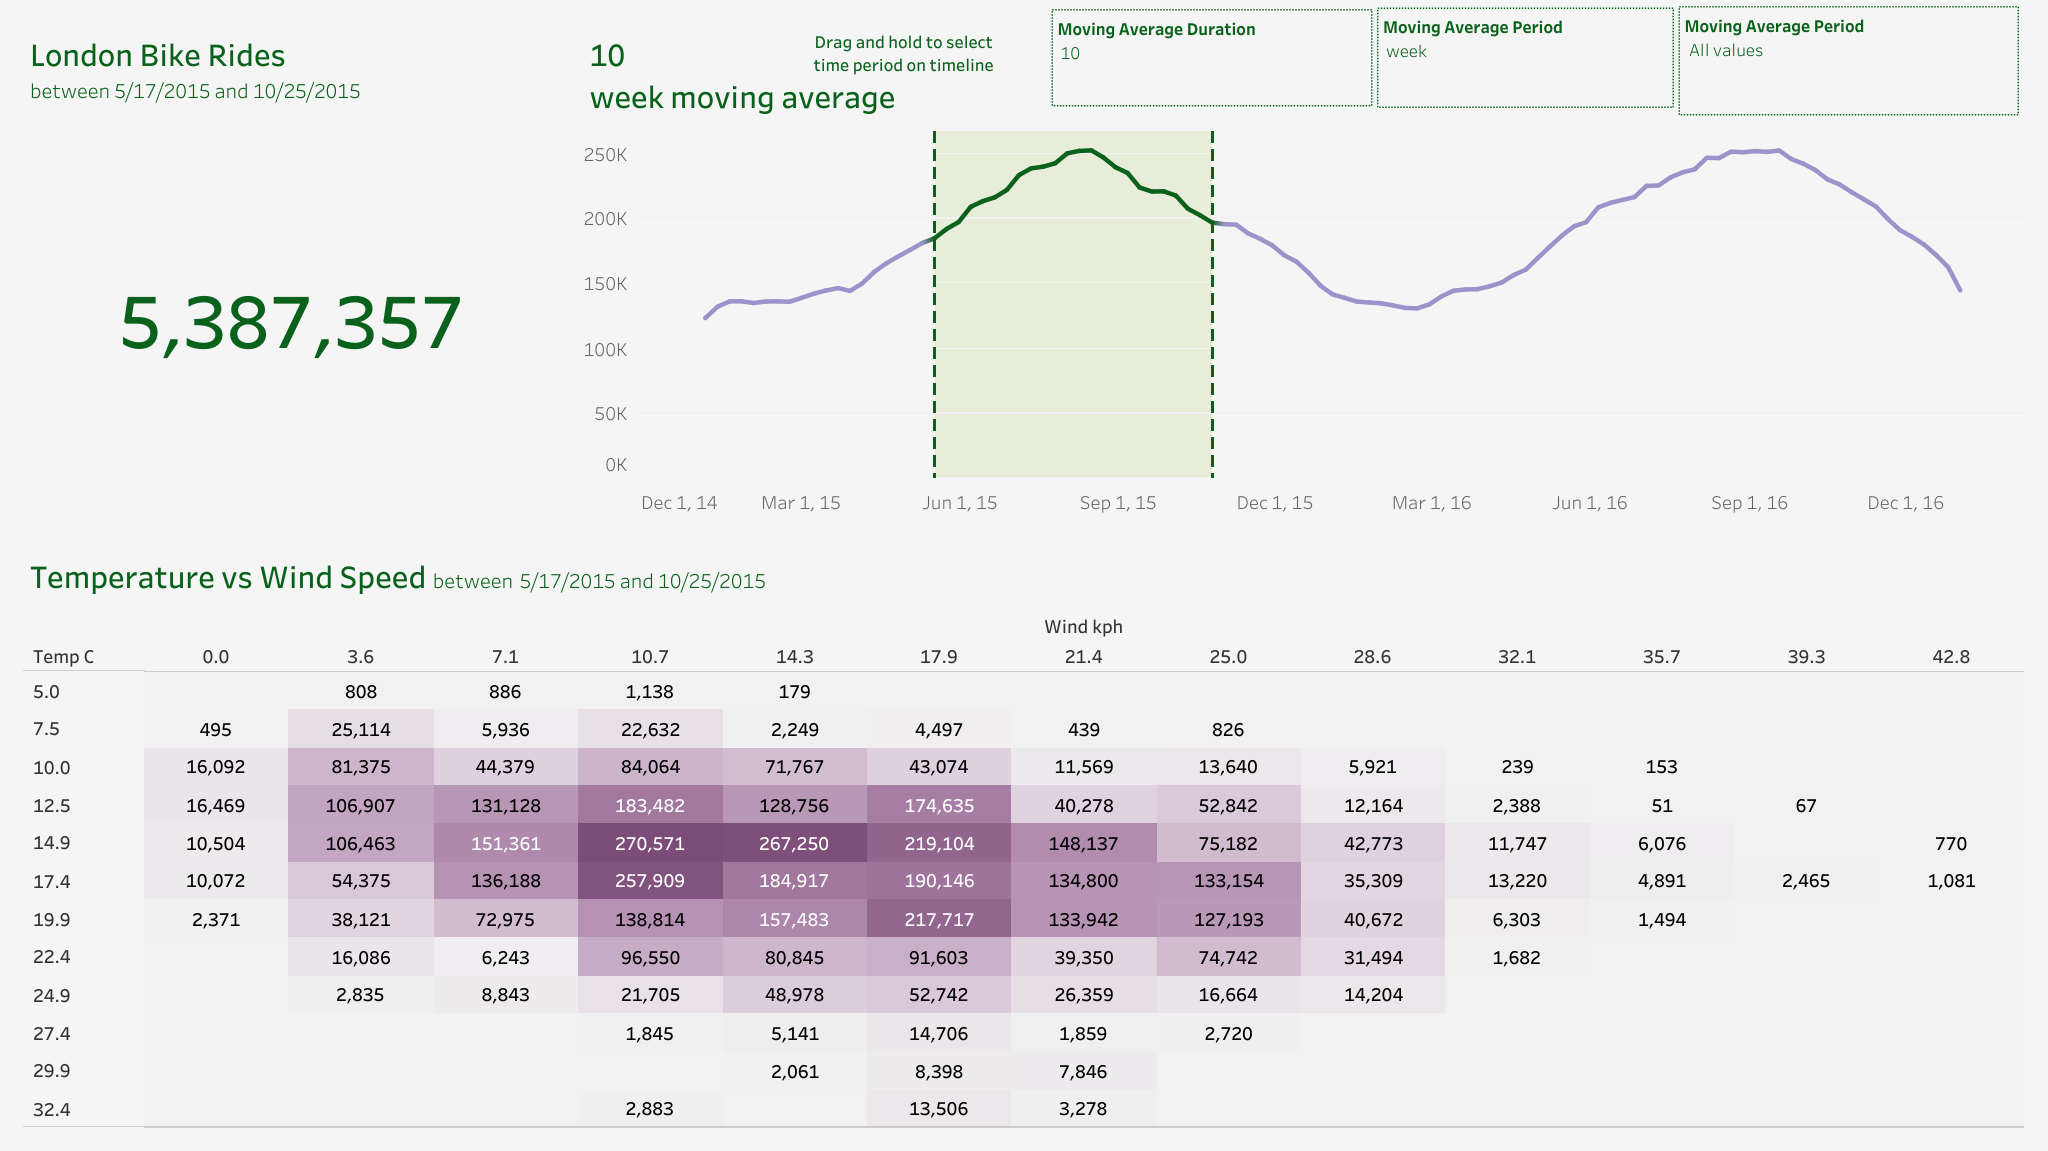

Layout of this report page (visuals, bound fields, positions):
{"tool":"tableau","page":{"name":"Dashboard 1","canvas":[1366,768],"ordinal":0},"visuals":[{"type":"filter","title":"MovingAverage","param":"[federated.01z07q41wdzwgt17qc1xl1ahsowg].[none:Calculation_1837750162189635584:q","box":[1119,4,227,73]},{"type":"parameter","param":"[Parameters].[Parameter 1]","box":[918,5,198,67]},{"type":"parameter","param":"[Parameters].[Parameter 2]","box":[701,6,214,65]},{"type":"worksheet","title":"TotalRides","mark":"Automatic","box":[8,8,373,348]},{"type":"worksheet","title":"MovingAverage","mark":"Automatic","rows":["Calculation1"],"cols":["Calculation_1837750162189635584"],"box":[381,8,977,348]},{"type":"text","box":[500,10,205,50]},{"type":"worksheet","title":"HeatMap","mark":"Square","rows":["temp real C (bin)"],"cols":["Wind Speed Kph (bin)"],"box":[8,356,1350,404]}]}

Visuals, with their boxes in screenshot pixels (x1, y1, x2, y2), scaled from the page's 1366x768 canvas onto the 2048x1151 screenshot:
"MovingAverage" filter: [left=1678, top=6, right=2018, bottom=115]
parameter: [left=1376, top=7, right=1673, bottom=108]
parameter: [left=1051, top=9, right=1372, bottom=106]
"TotalRides" worksheet: [left=12, top=12, right=571, bottom=534]
"MovingAverage" worksheet: [left=571, top=12, right=2036, bottom=534]
text: [left=750, top=15, right=1057, bottom=90]
"HeatMap" worksheet (Square marks): [left=12, top=534, right=2036, bottom=1139]
